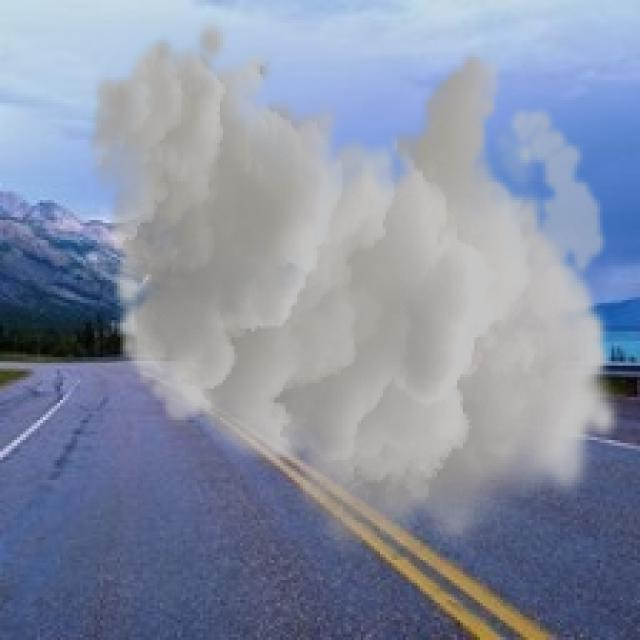Smoke: (86, 17, 623, 566)
